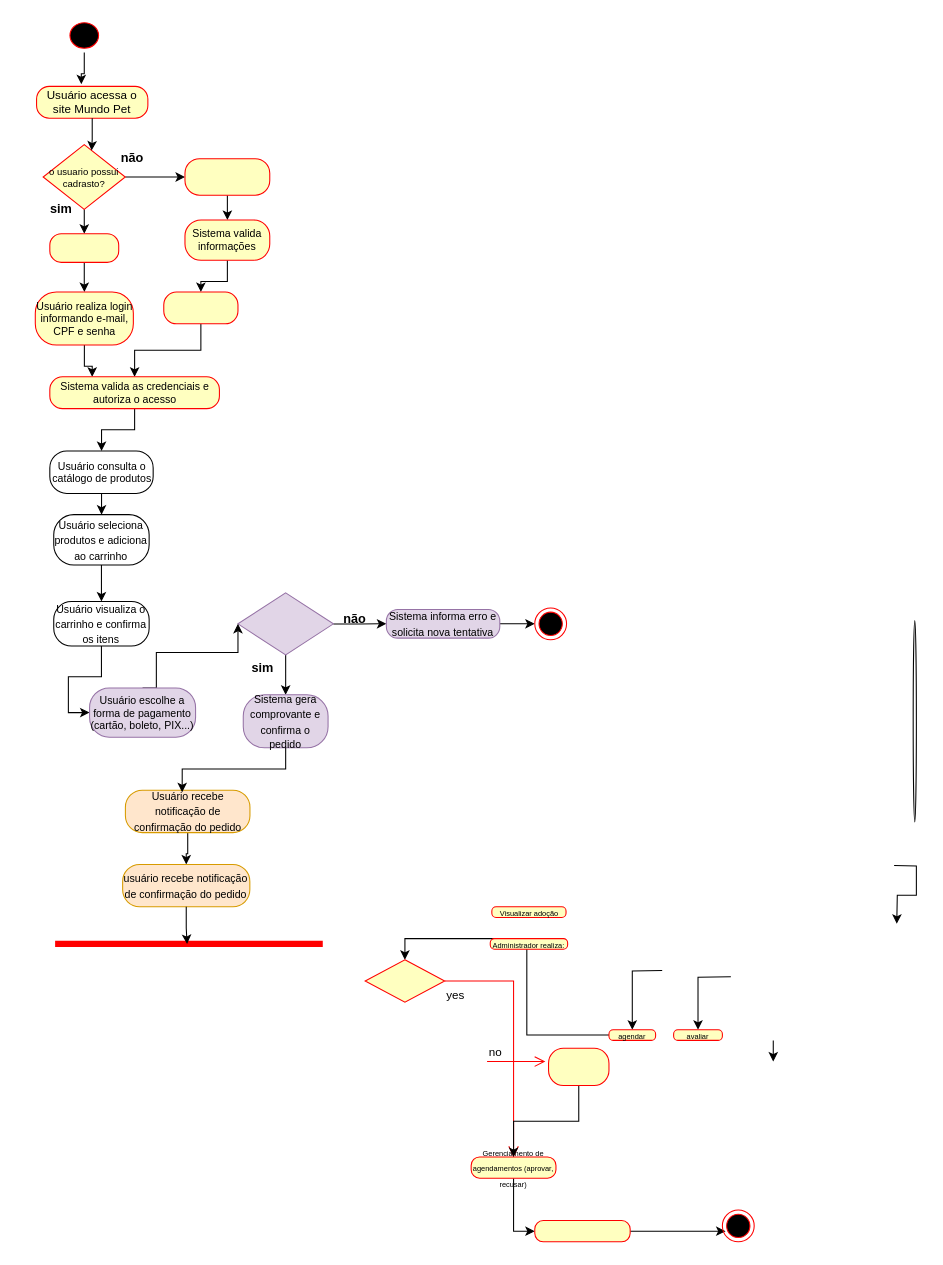
This 943x1265 diagram has some shape labels left out. The centre of each missing label's shape, as x and y in pixels:
agendamento disponivel?: point (404, 980)
Atualização de produtos e informações: point (582, 1231)
conta criada: point (200, 307)
escolher horario disponivel: point (578, 1066)
Pagamento aprovado?: point (285, 623)
preencher dados de cadastro: point (227, 176)
Prossegue para login: point (84, 247)
